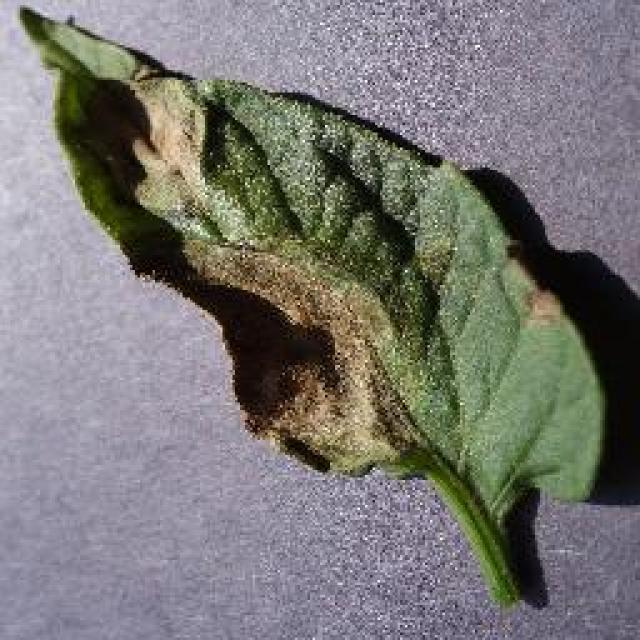Tomato late blight leaf: (14, 4, 608, 518)
